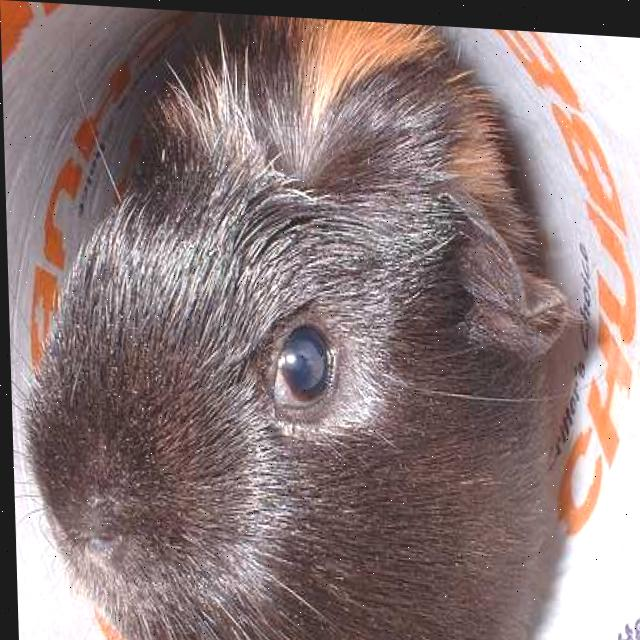guinea pig: (17, 1, 562, 640)
